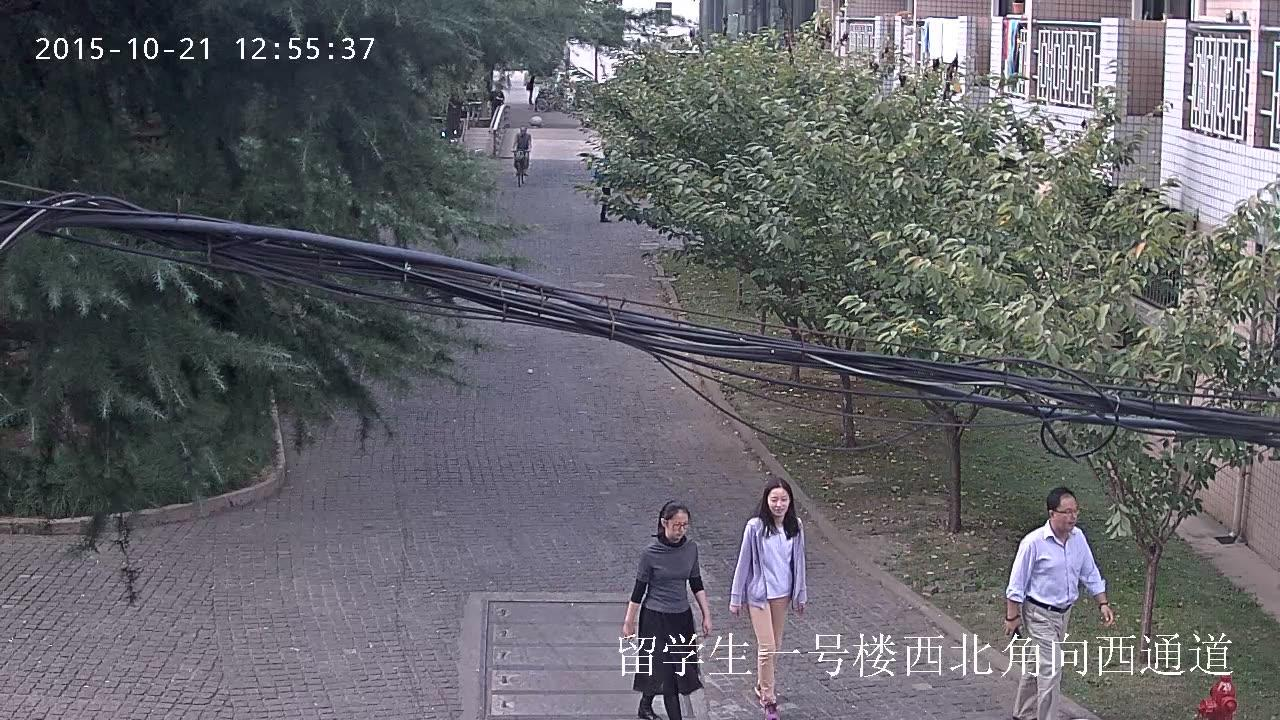person: (1004, 486, 1112, 720), (621, 500, 711, 720), (729, 476, 807, 720), (591, 145, 614, 222), (511, 124, 531, 187), (511, 124, 531, 175), (524, 66, 536, 105)
